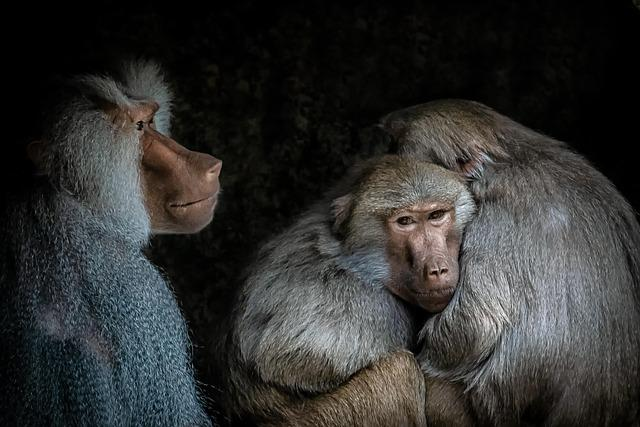Non_Gorille: (8, 0, 640, 427)
